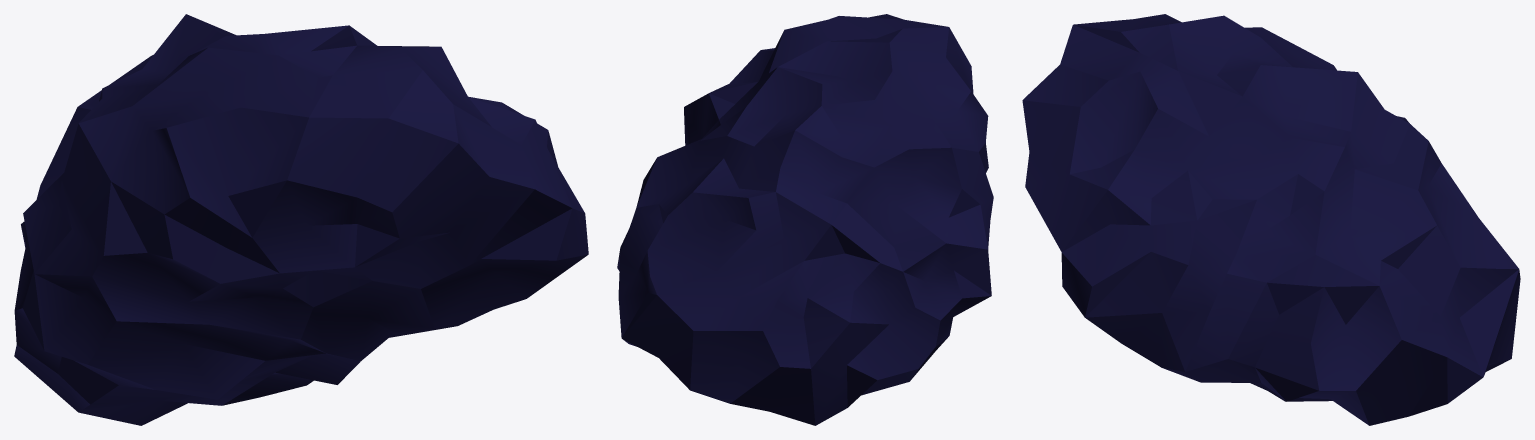
Rendered from Asteroid3.obj.
3 views of the same model, side by side, from view 1: azimuth 30°, elevation 25°; view 2: azimuth 150°, elevation 25°; view 3: azimuth 270°, elevation 25° (orthographic). The views are drawn at different scales.
Parts seen in each view (by area): view 1: Asteroid3; view 2: Asteroid3; view 3: Asteroid3.
Part boxes in pixels (x1,y1,x2,y2): Asteroid3: (14, 14, 588, 425); Asteroid3: (617, 14, 993, 425); Asteroid3: (1022, 14, 1520, 425).
Size of the model in its own units: 16.47 by 13.8 by 17.59.
